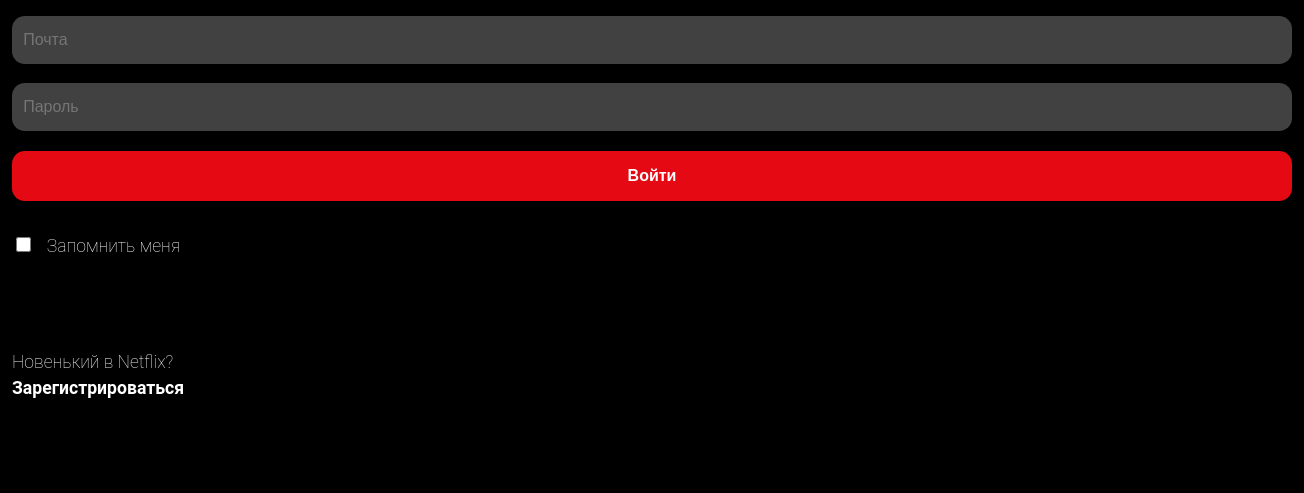
Scenario: CustomForm SignIn › Успешное отправление формы при правильных данных
The width and height of the screenshot is (1304, 493).
Type "correctLogin@mail.ru" into the field with placeholder "Почта" at (652, 40), box x1=12 y1=16 x2=1292 y2=64
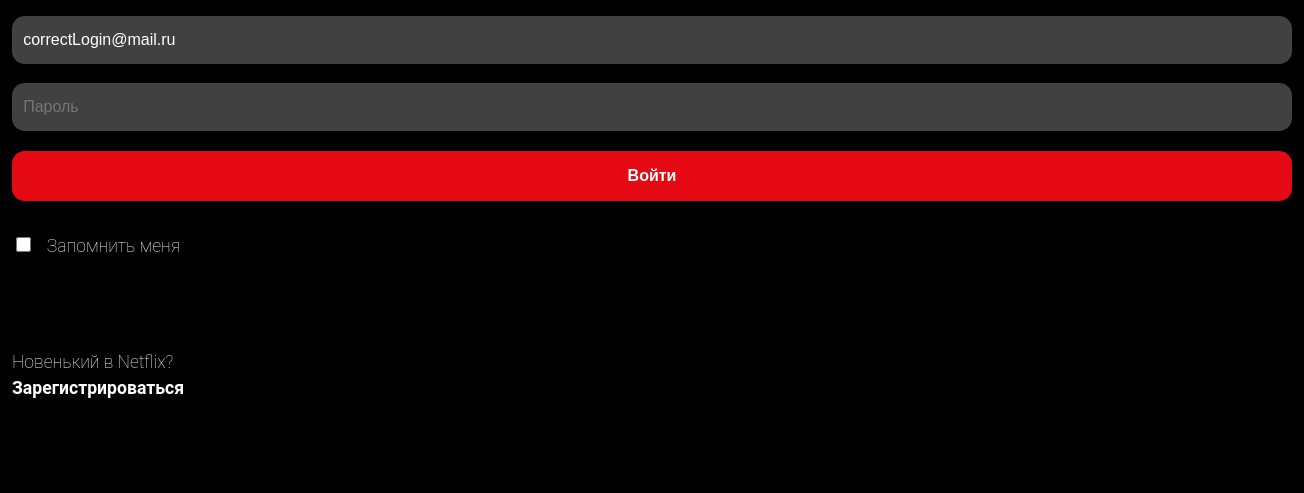
Type "correctPassword228;" into the password field with placeholder "Пароль" at (652, 107), box x1=12 y1=83 x2=1292 y2=131
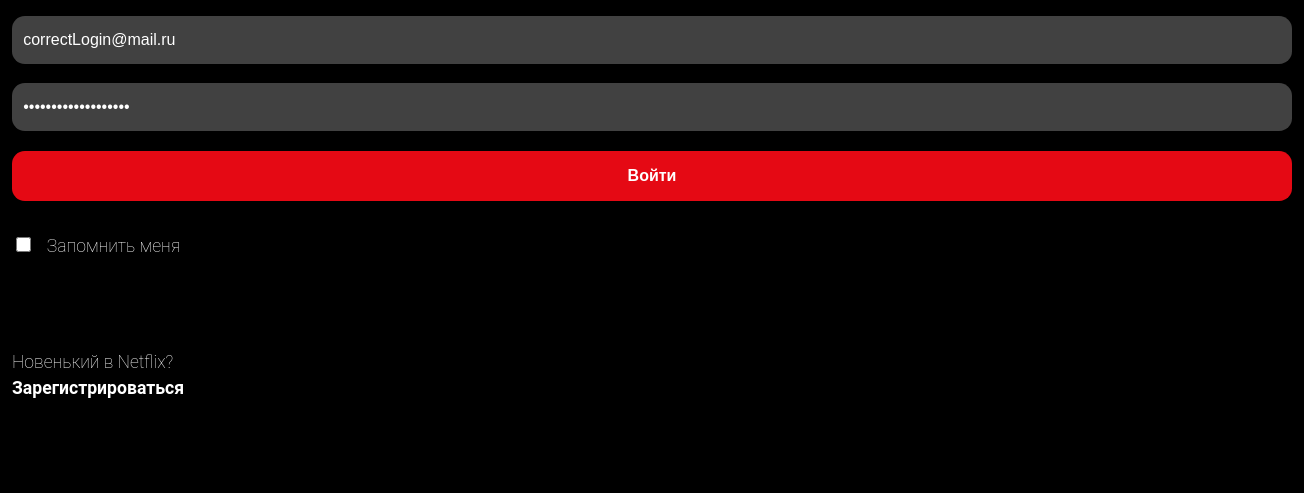
Submit the form
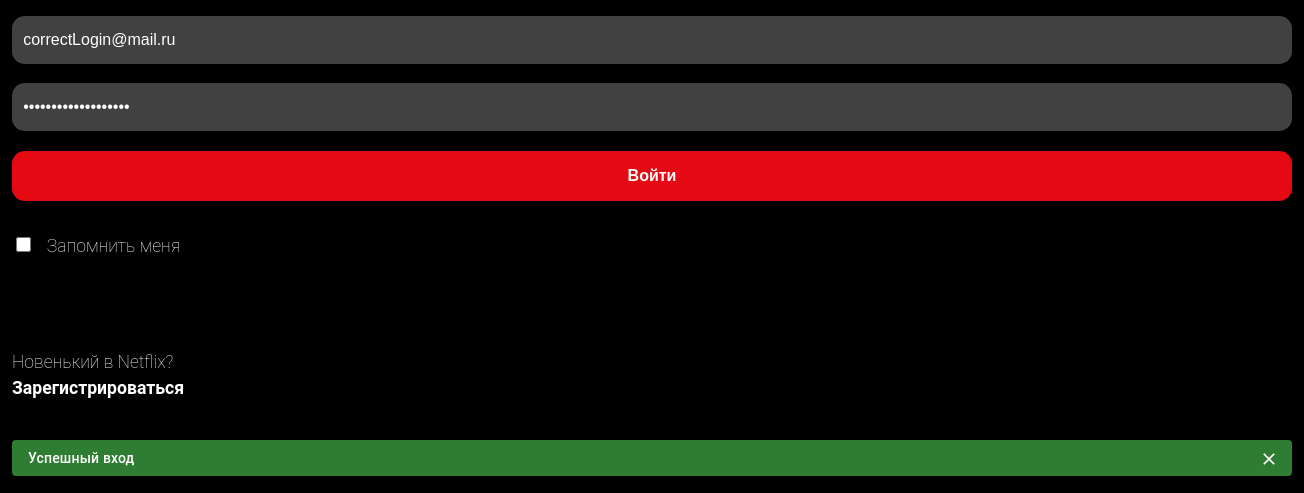
Expected: the text "Успешный вход" is shown, x1=28 y1=450 x2=134 y2=466
